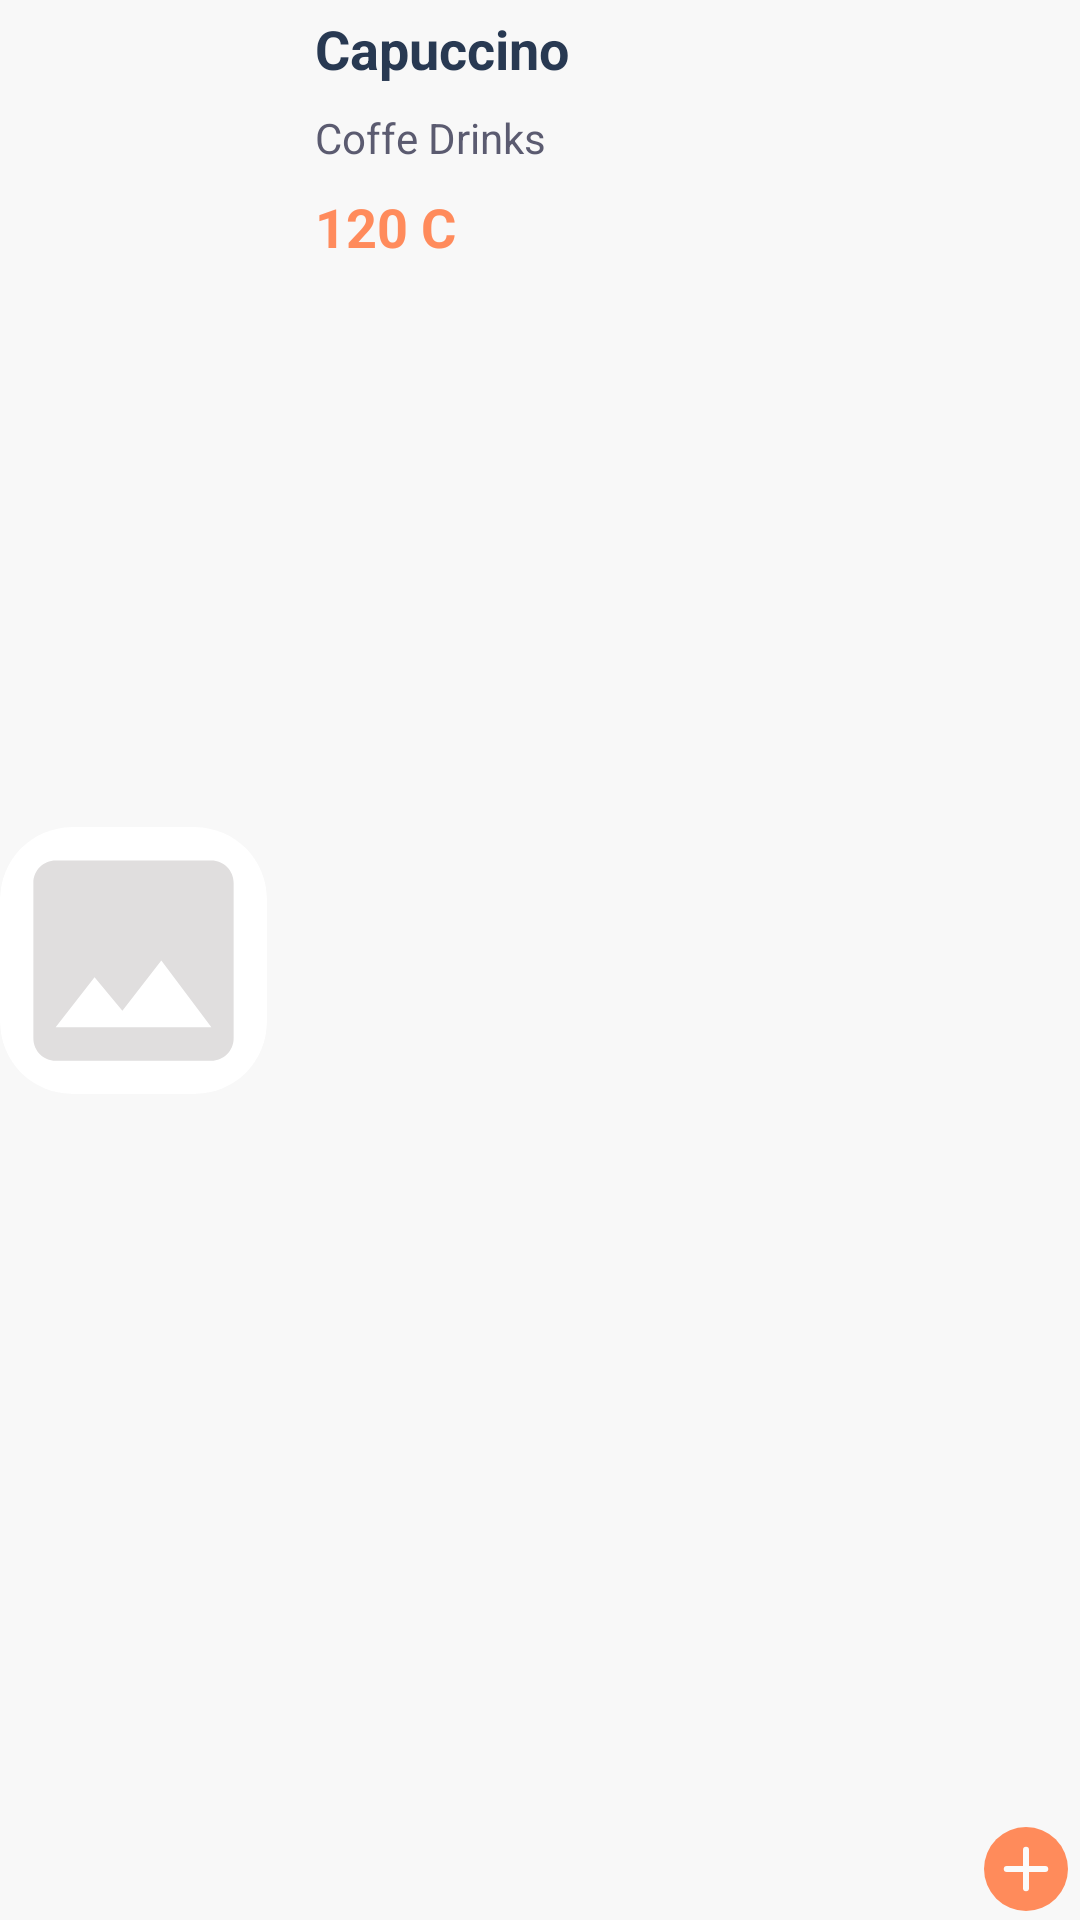

Icons on this 1080w x 1920h Android screen, each with its box as [left=x1, top=y1, right=x2, bottom=y2]:
add item: [left=984, top=1827, right=1068, bottom=1911]
